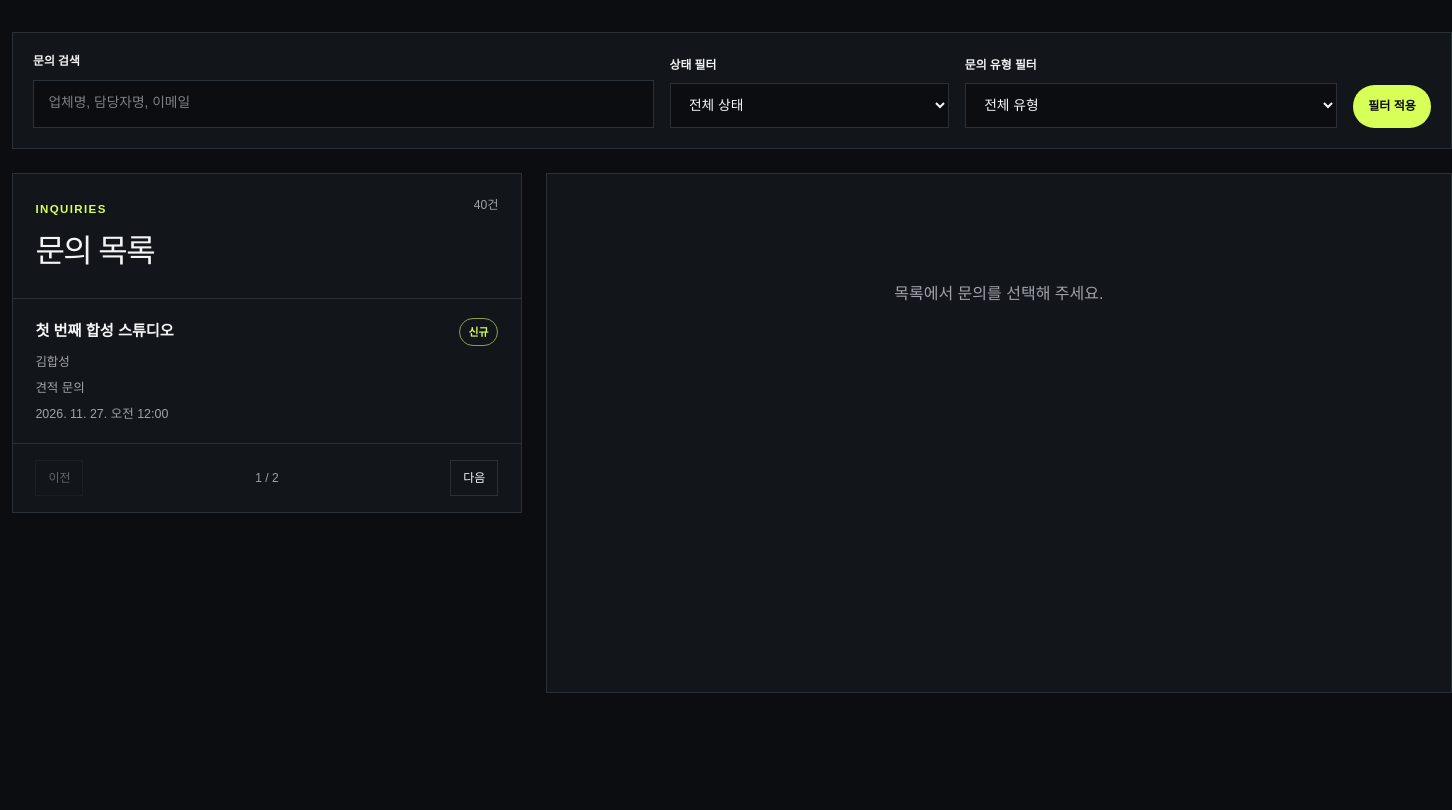
Test: 관리자 문의 관리 화면 › 두 번째 페이지에서 필터를 적용하면 page=1로 다시 요청한다
Expected: the text "첫 번째 합성 스튜디오" is shown, [35,320,174,343]
Click the button "다음" at x=474, y=478, box [450,460,498,496]
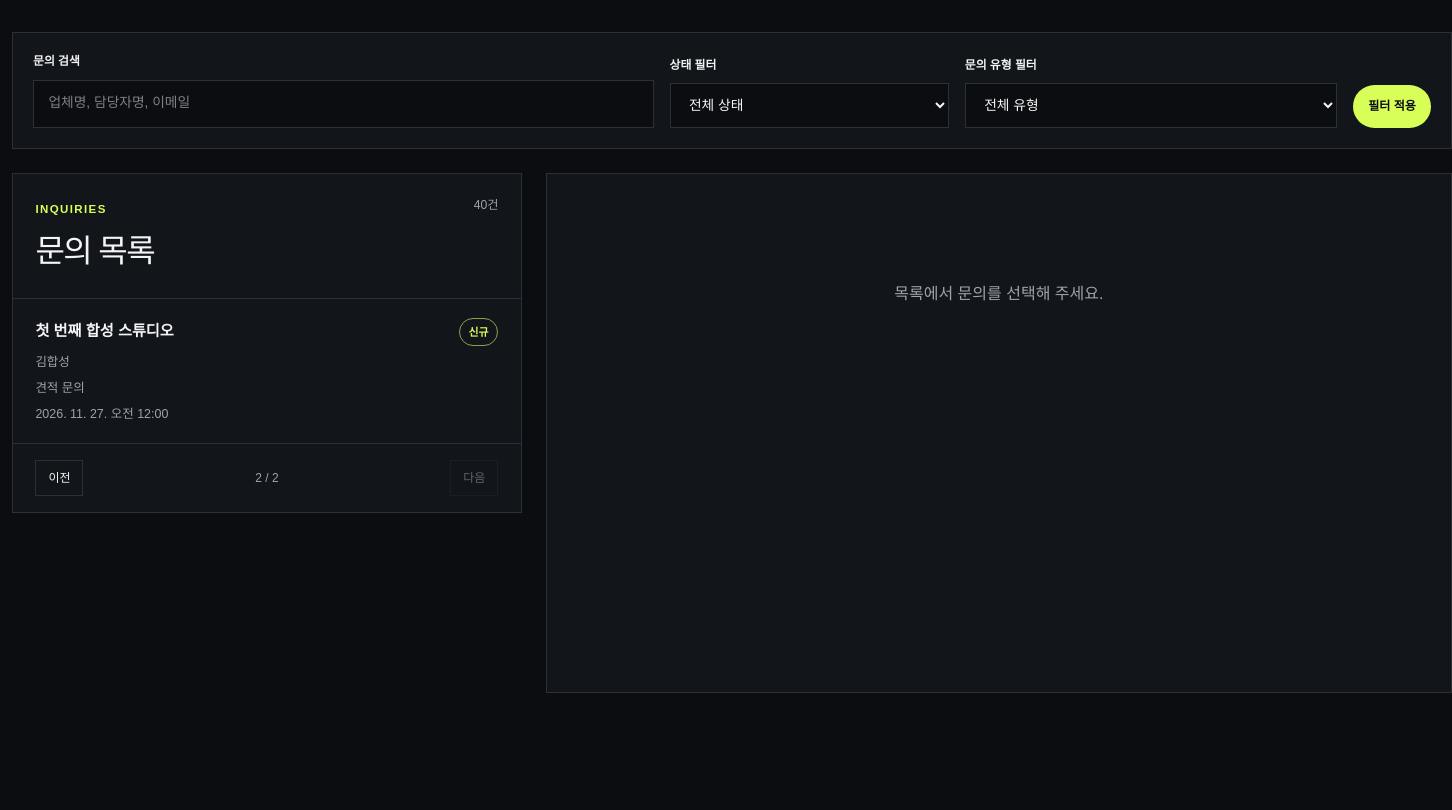
Expected: the text "2 / 2" is shown, [255,469,279,487]
Type "검색" into the field labelled "문의 검색" at x=343, y=104, box [33,80,654,128]
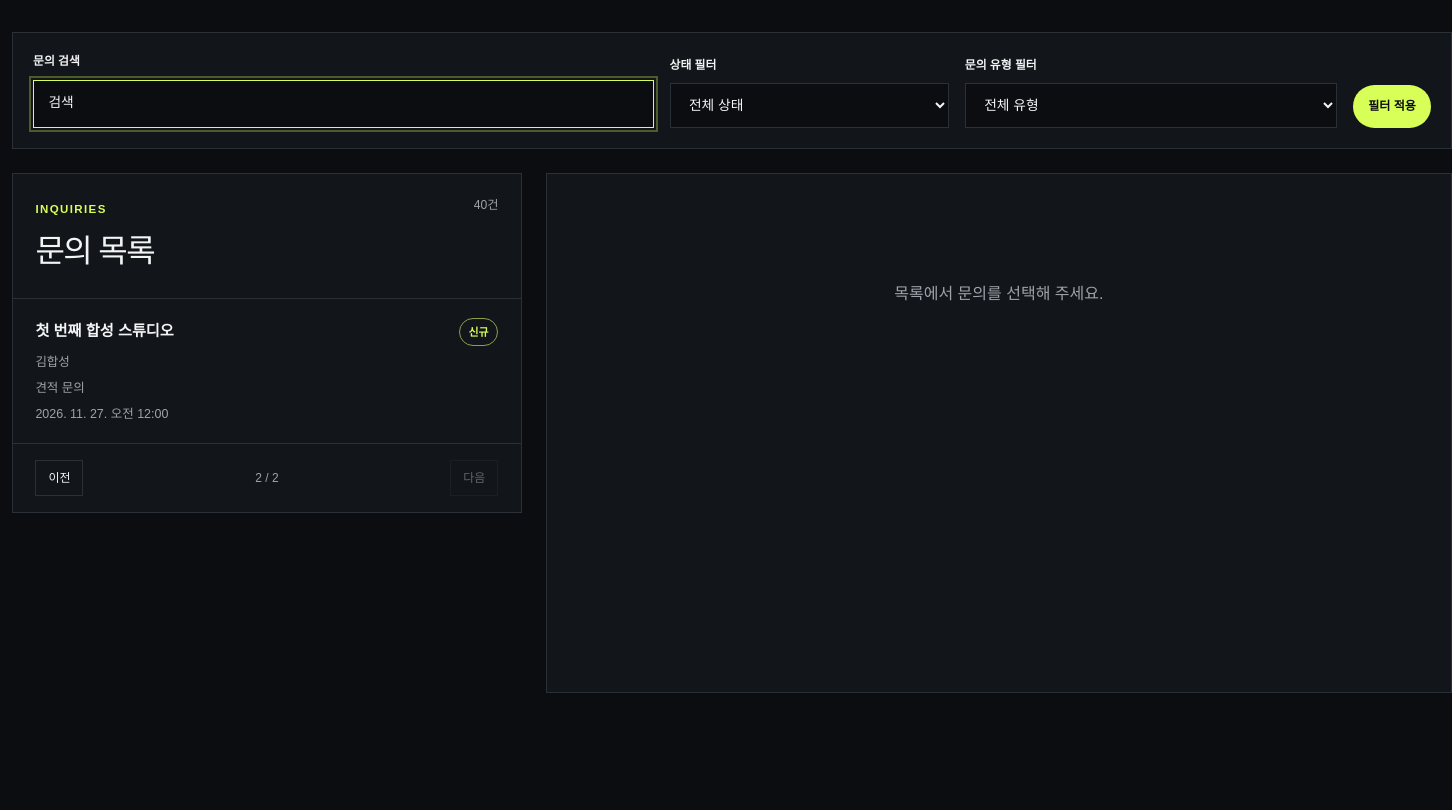
Click the button "필터 적용" at x=1392, y=106, box [1353,85,1431,128]
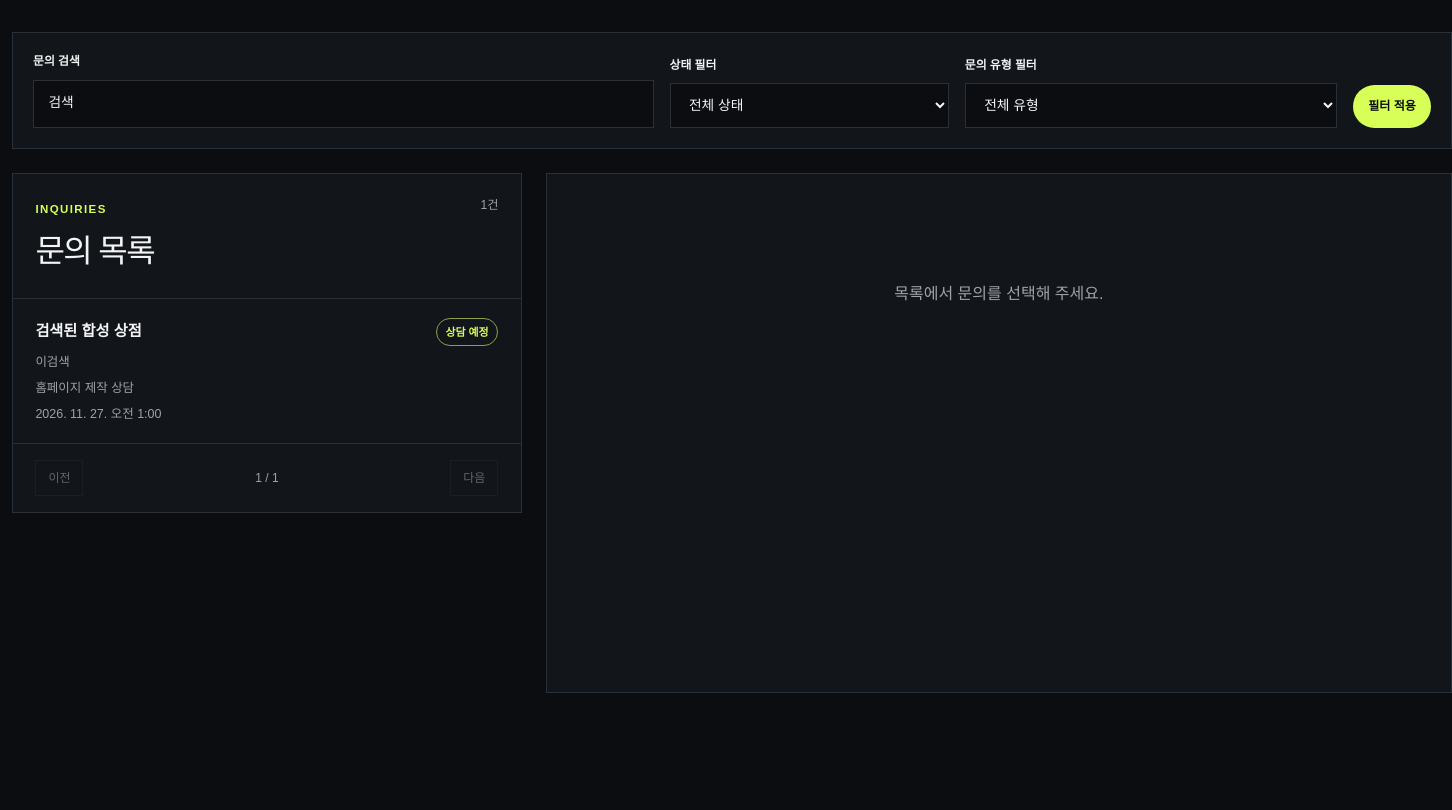
Expected: the text "검색된 합성 상점" is shown, [35,320,142,343]
